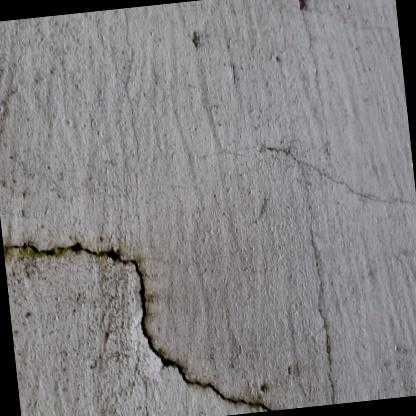crack: (3, 241, 275, 411)
